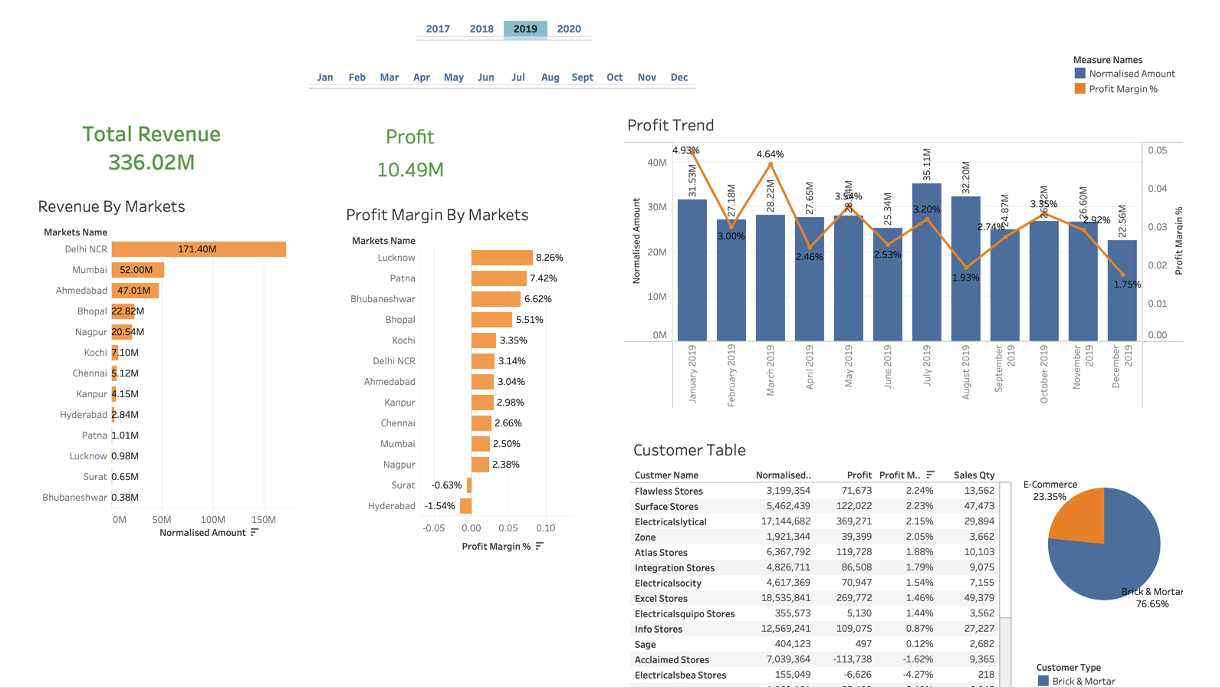

Layout of this report page (visuals, bound fields, positions):
{"tool":"tableau","page":{"name":"Dashboard Profit Analysis","canvas":[1500,900],"ordinal":1},"visuals":[{"type":"worksheet","title":"Year","mark":"Automatic","cols":["cy_date"],"box":[500,16,238,51]},{"type":"legend","title":"Profit Trend","param":"[federated.0an974k0zqrea11aens1k1srq17r].[:Measure Names]","box":[1356,71,140,58]},{"type":"worksheet","title":"Month","mark":"Automatic","cols":["cy_date"],"box":[360,79,515,70]},{"type":"worksheet","title":"Profit","mark":"Automatic","box":[360,138,320,138]},{"type":"worksheet","title":"Revenue ","mark":"Automatic","box":[44,144,253,102]},{"type":"worksheet","title":"Revenue By Markets","mark":"Automatic","rows":["markets_name"],"cols":["Calculation_1837609440272912384"],"box":[2,252,339,532]},{"type":"worksheet","title":"Profit Margin By Markets","mark":"Automatic","rows":["markets_name"],"cols":["Calculation_1837609440583823364"],"box":[404,263,301,495]}]}

Visuals, with their boxes on the page's 1500x900 design canvas (x1, y1, x2, y2). These are canvas units, not pixel positions in the 1220x688 screenshot, which may show the page scaled, cropped or inside an application window:
"Year" worksheet: x1=500 y1=16 x2=738 y2=67
"Profit Trend" legend: x1=1356 y1=71 x2=1496 y2=129
"Month" worksheet: x1=360 y1=79 x2=875 y2=149
"Profit" worksheet: x1=360 y1=138 x2=680 y2=276
"Revenue " worksheet: x1=44 y1=144 x2=297 y2=246
"Revenue By Markets" worksheet: x1=2 y1=252 x2=341 y2=784
"Profit Margin By Markets" worksheet: x1=404 y1=263 x2=705 y2=758
